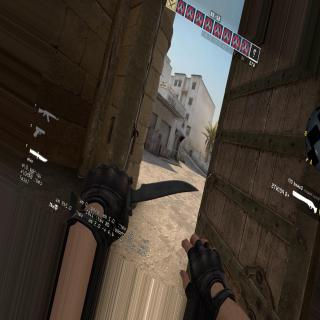CT-Body: (190, 149, 193, 157)
CT-Head: (192, 150, 192, 152)
